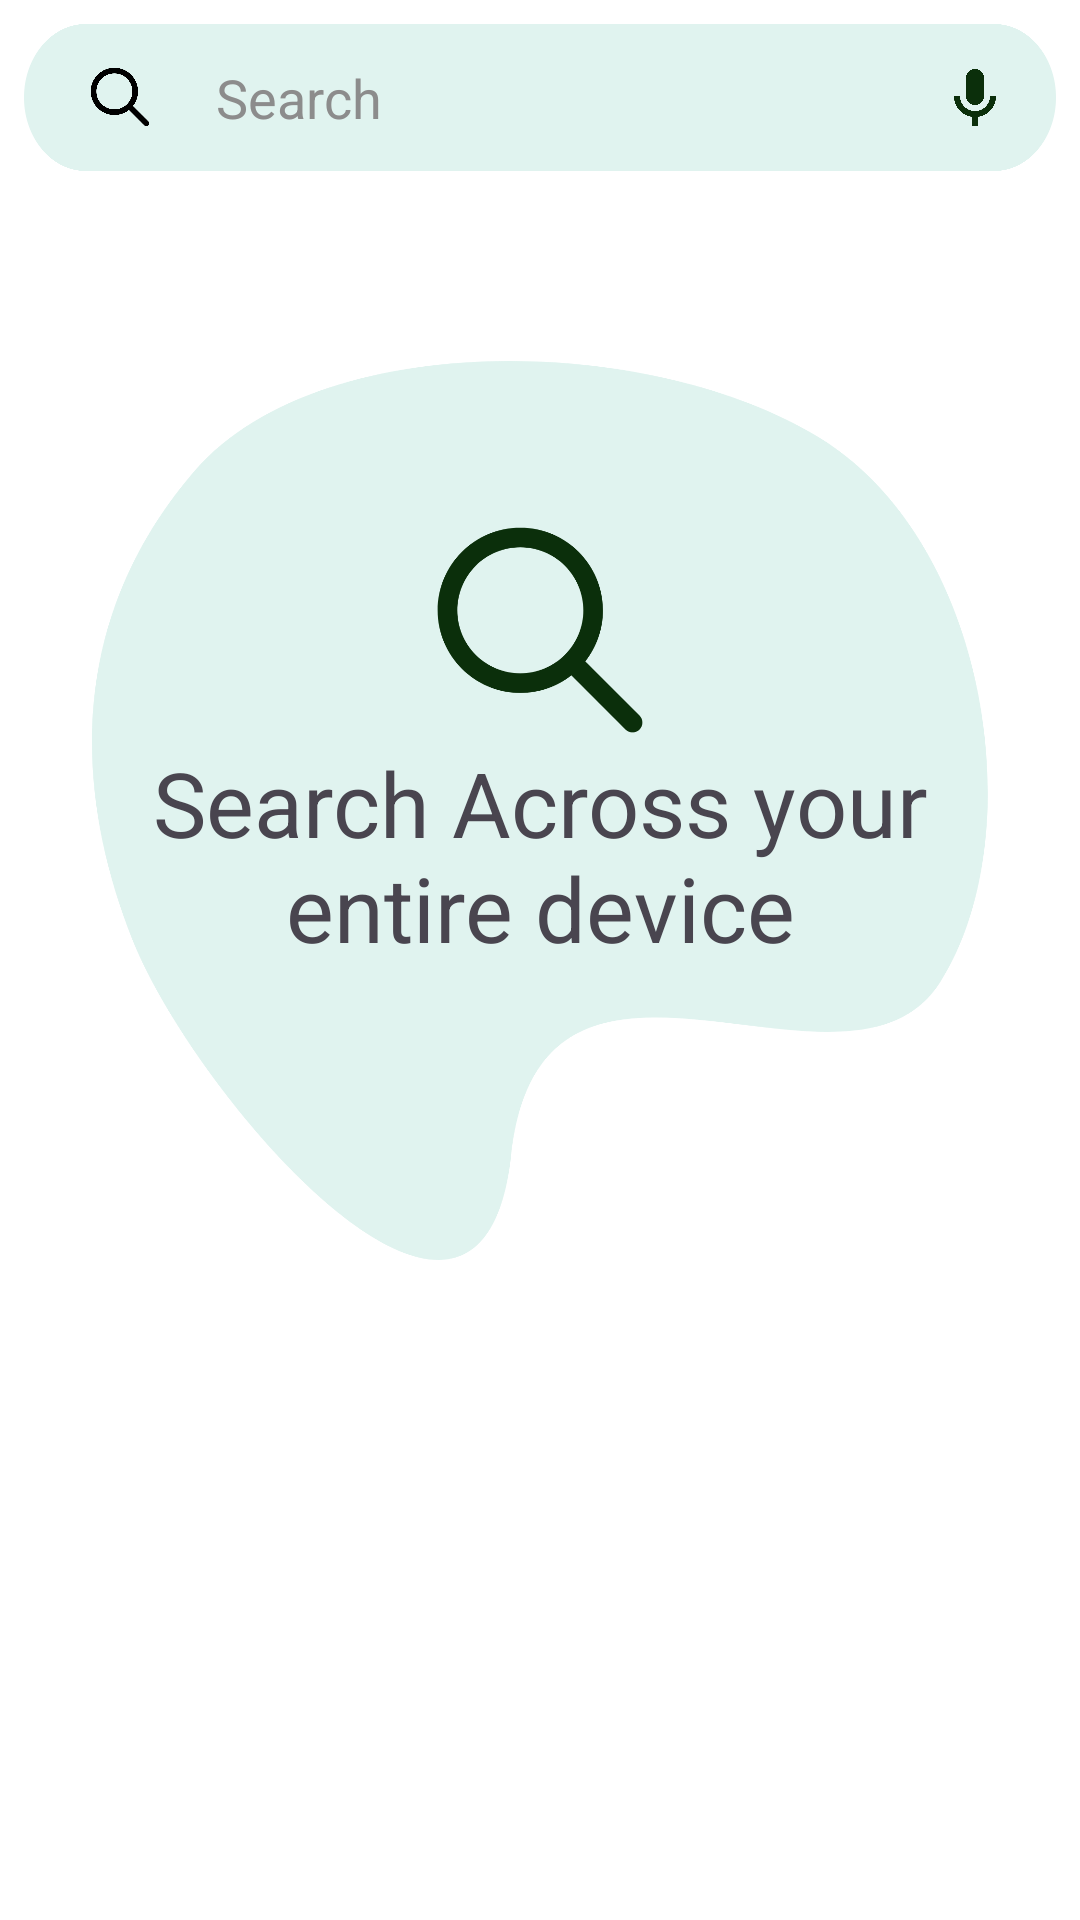

Where to tap for icons on this 1080px x 1920px app screen, as [x,y]:
fluent search: [540,630]
Mic: [975,97]
